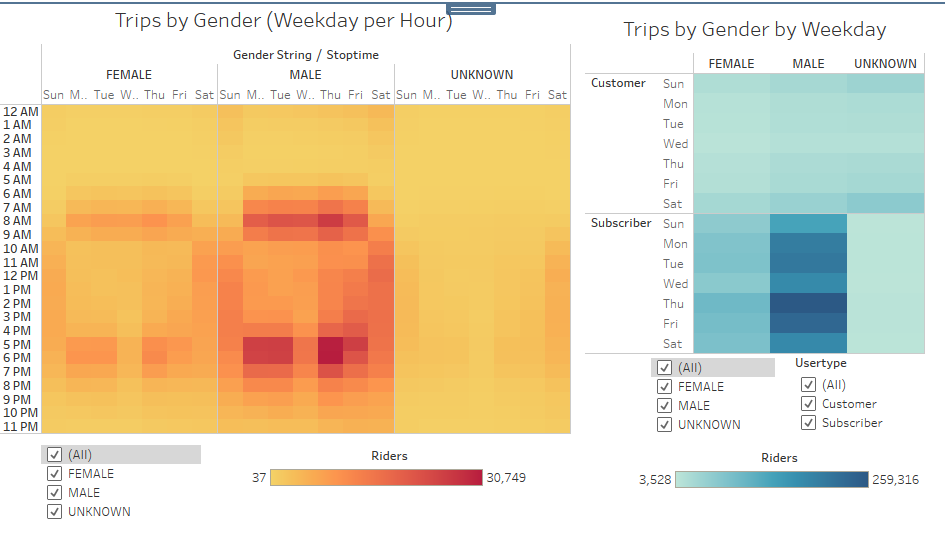

The page's visual inventory and layout, read from the dashboard file:
{"tool":"tableau","page":{"name":"Dashboard 2","canvas":[1000,800],"ordinal":1},"visuals":[{"type":"worksheet","title":"Trips by Gender by Hour","mark":"Automatic","rows":["starttime"],"cols":["Calculation_1399212164086235136","stoptime"],"box":[10,5,574,433]},{"type":"worksheet","title":"Trips by Gender by Weekday","mark":"Automatic","rows":["usertype","starttime"],"cols":["Calculation_1399212164086235136"],"box":[598,14,376,379]},{"type":"filter","title":"Trips by Gender by Weekday","param":"[federated.0sx5glx0vfjmuz1dkcllk0mkpj9r].[none:usertype:nk]","box":[808,358,116,89]},{"type":"filter","title":"Trips by Gender by Weekday","param":"[federated.0sx5glx0vfjmuz1dkcllk0mkpj9r].[none:Calculation_1399212164086235136:n","box":[664,359,124,90]},{"type":"filter","title":"Trips by Gender by Hour","param":"[federated.0sx5glx0vfjmuz1dkcllk0mkpj9r].[none:Calculation_1399212164086235136:n","box":[54,446,160,100]},{"type":"legend","title":"Trips by Gender by Hour","param":"[federated.0sx5glx0vfjmuz1dkcllk0mkpj9r].[__tableau_internal_object_id__].[cnt:2","box":[261,451,283,76]},{"type":"legend","title":"Trips by Gender by Weekday","param":"[federated.0sx5glx0vfjmuz1dkcllk0mkpj9r].[__tableau_internal_object_id__].[cnt:2","box":[648,453,289,76]}]}

Visuals, with their boxes on the page's 1000x800 design canvas (x1, y1, x2, y2). These are canvas units, not pixel positions in the 945x555 screenshot, which may show the page scaled, cropped or inside an application window:
"Trips by Gender by Hour" worksheet: [x1=10, y1=5, x2=584, y2=438]
"Trips by Gender by Weekday" worksheet: [x1=598, y1=14, x2=974, y2=393]
"Trips by Gender by Weekday" filter: [x1=808, y1=358, x2=924, y2=447]
"Trips by Gender by Weekday" filter: [x1=664, y1=359, x2=788, y2=449]
"Trips by Gender by Hour" filter: [x1=54, y1=446, x2=214, y2=546]
"Trips by Gender by Hour" legend: [x1=261, y1=451, x2=544, y2=527]
"Trips by Gender by Weekday" legend: [x1=648, y1=453, x2=937, y2=529]
